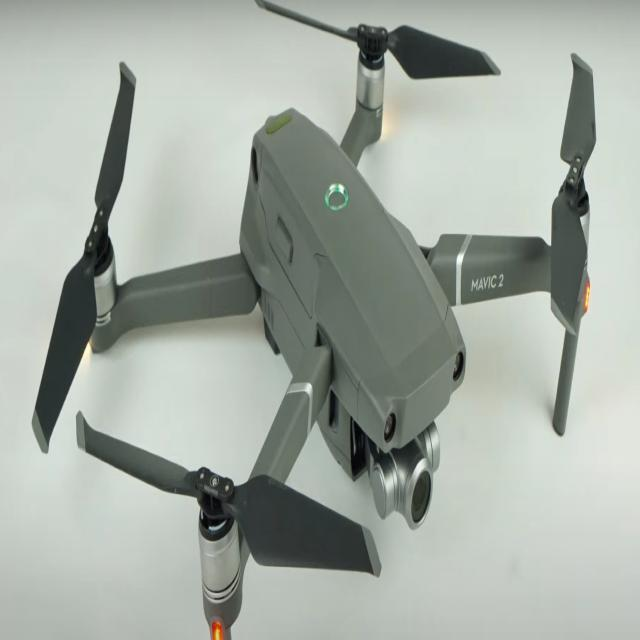drone: (16, 0, 616, 640)
